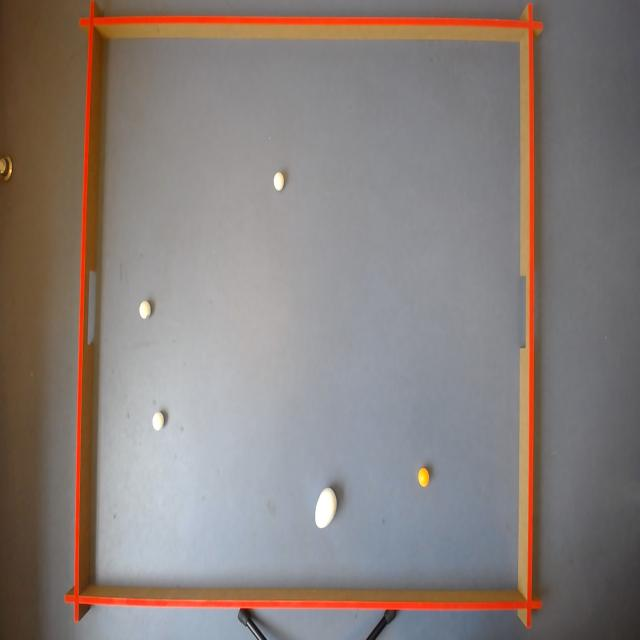egg: (314, 486, 337, 532)
orange_ball: (417, 466, 430, 491)
white_ball: (151, 410, 165, 433), (138, 299, 152, 321), (272, 171, 286, 193)
